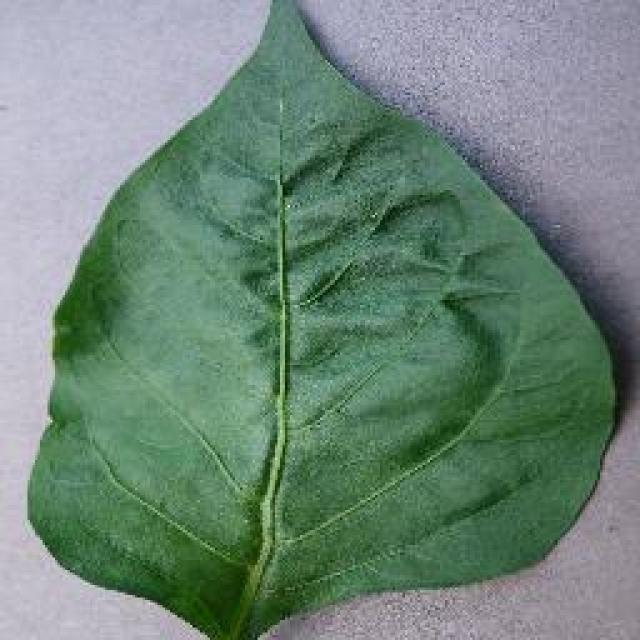Chilli_Healthy: (22, 0, 620, 638)
